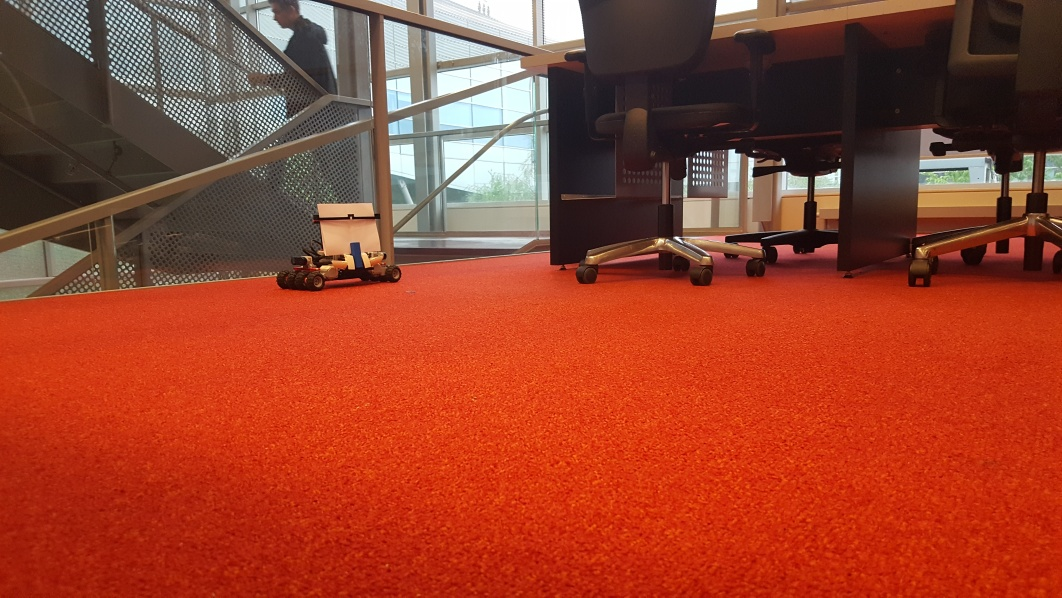car: (274, 198, 405, 292)
